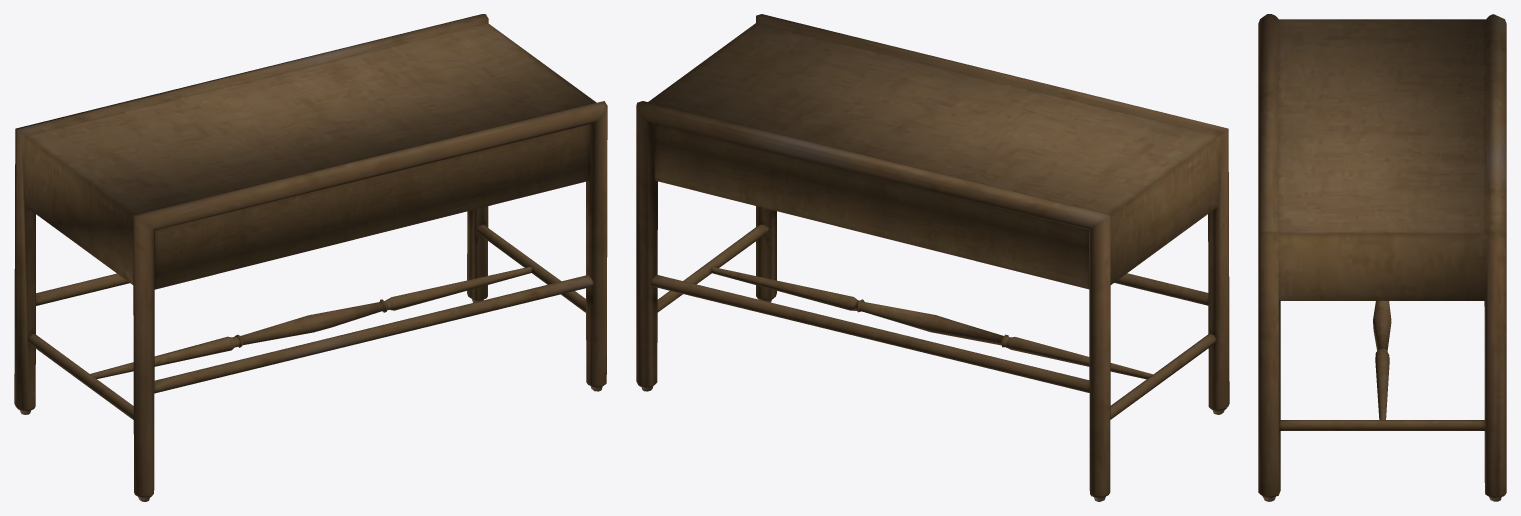
Rendered from small_wooden_table_01.glb.
The picture shows the model from 3 angles, left to right: view 1: azimuth 30°, elevation 25°; view 2: azimuth 150°, elevation 25°; view 3: azimuth 270°, elevation 25°; orthographic projection. The views are drawn at different scales.
Visible parts, largest first — view 1: small_wooden_table_01; view 2: small_wooden_table_01; view 3: small_wooden_table_01.
Boxes of the visible parts, x1,y1,x2,y2 form: small_wooden_table_01: (14,14,607,501); small_wooden_table_01: (636,14,1229,501); small_wooden_table_01: (1258,14,1506,501).
Size of the model in its own units: 0.9162 by 0.5331 by 0.44.
Materials: 1 (1 with a texture image).
